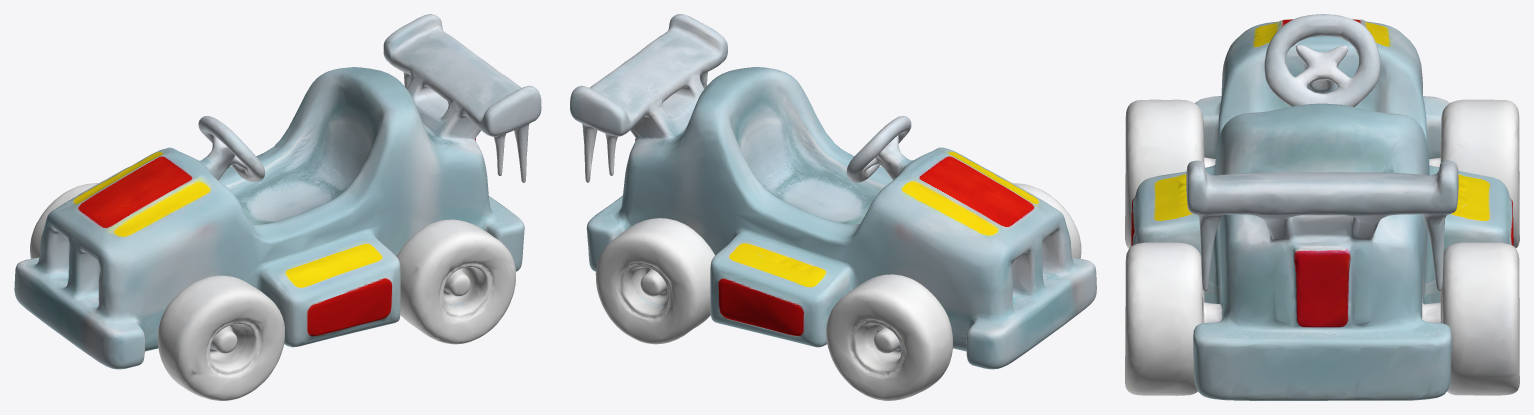
File: w1-ice.glb
The picture shows the model from 3 angles, left to right: view 1: azimuth 30°, elevation 25°; view 2: azimuth 150°, elevation 25°; view 3: azimuth 270°, elevation 25°; orthographic projection. The views are drawn at different scales.
Visible parts, largest first — view 1: Mesh_0; view 2: Mesh_0; view 3: Mesh_0.
Boxes of the visible parts, box(x1,y1,x2,y2) form: Mesh_0: box(14, 14, 541, 400); Mesh_0: box(570, 14, 1096, 400); Mesh_0: box(1125, 14, 1519, 400).
Bounding box in the file's own units: 1.9 × 0.9146 × 1.19.
Materials: 1 (1 with a texture image).
